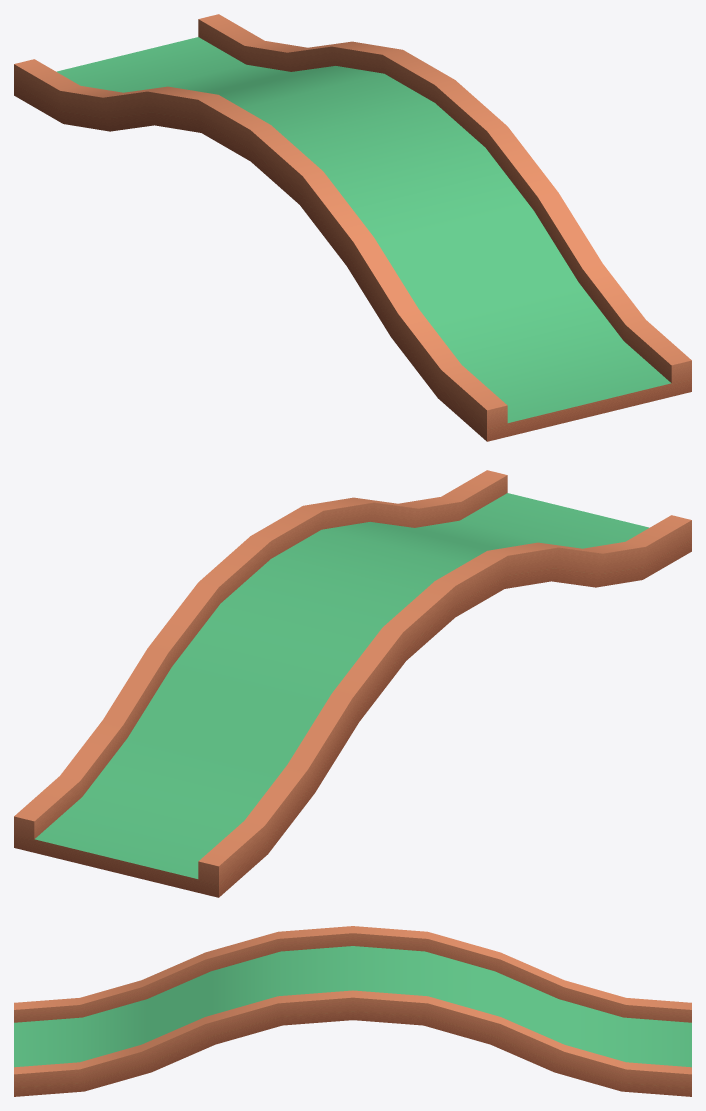
The model's file is spline-default-straight-bump-up.glb.
3 renders of one model, top to bottom at view 1: azimuth 30°, elevation 25°; view 2: azimuth 150°, elevation 25°; view 3: azimuth 270°, elevation 25°, orthographic. The views are drawn at different scales.
Parts seen in each view (by area): view 1: spline-default-straight-bump-up; view 2: spline-default-straight-bump-up; view 3: spline-default-straight-bump-up.
Boxes of the visible parts, x1,y1,x2,y2 form: spline-default-straight-bump-up: [14, 14, 691, 441]; spline-default-straight-bump-up: [14, 470, 691, 897]; spline-default-straight-bump-up: [14, 926, 691, 1096].
Size of the model in its own units: 0.9999 by 0.6467 by 4.
1 material, 1 textured.
